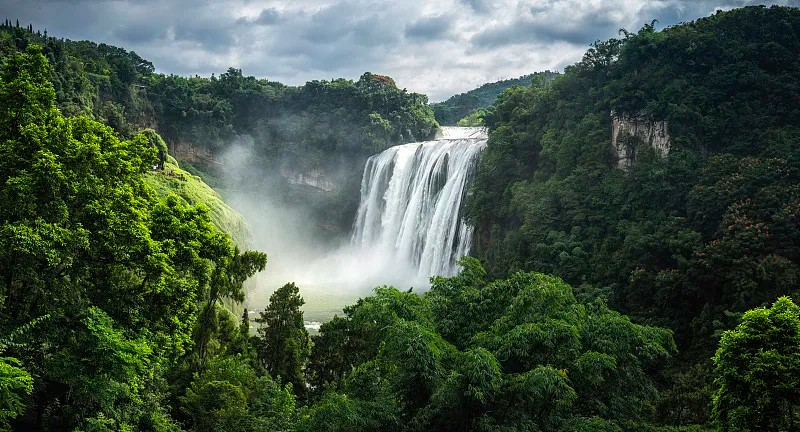Huangguoshu: (352, 128, 488, 284)
